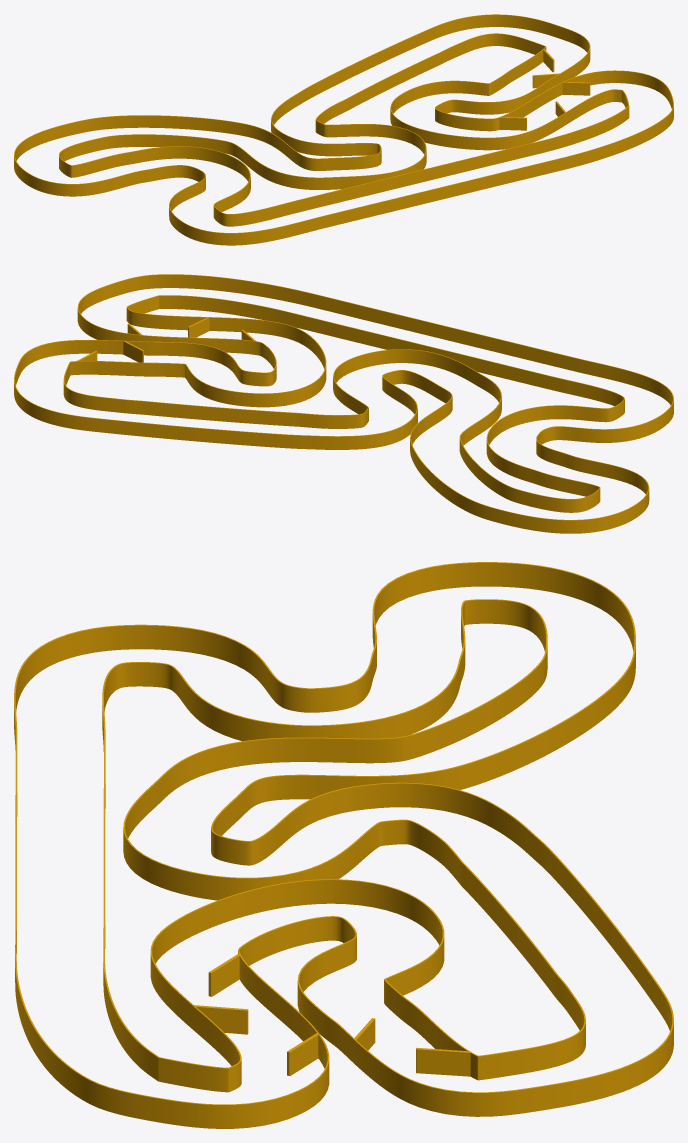
File: WALLS_no_ramps.fbx
The picture shows the model from 3 angles, top to bottom: view 1: azimuth 30°, elevation 25°; view 2: azimuth 150°, elevation 25°; view 3: azimuth 270°, elevation 25°; orthographic projection. The views are drawn at different scales.
Parts seen in each view (by area): view 1: THICK_WALLS, LittleWalls; view 2: THICK_WALLS, LittleWalls; view 3: THICK_WALLS, LittleWalls.
Boxes of the visible parts, box(x1,y1,x2,y2) form: THICK_WALLS: box(14, 14, 673, 245); LittleWalls: box(499, 49, 590, 130); THICK_WALLS: box(14, 274, 673, 533); LittleWalls: box(77, 317, 253, 362); THICK_WALLS: box(14, 562, 673, 1128); LittleWalls: box(194, 957, 470, 1076).
Size of the model in its own units: 4012 by 7812 by 161.
